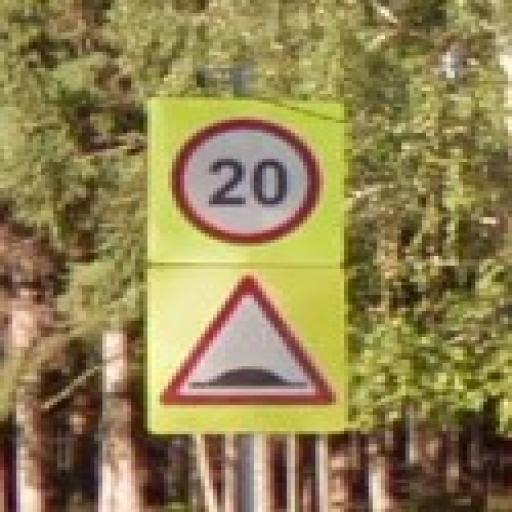traffic_sign: (161, 274, 341, 410), (169, 115, 325, 248)
